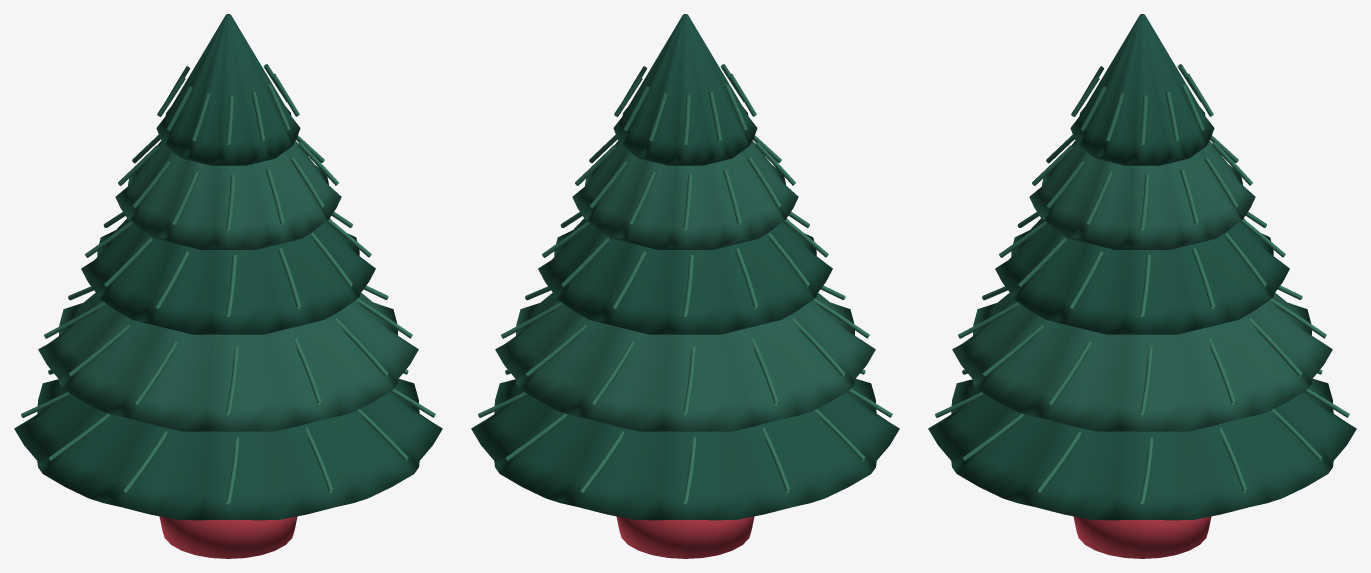
The model's file is tree.glb.
The picture shows the model from 3 angles, left to right: view 1: azimuth 30°, elevation 25°; view 2: azimuth 150°, elevation 25°; view 3: azimuth 270°, elevation 25°; orthographic projection.
Parts seen in each view (by area): view 1: Bough layer, Bough layer.001, Bough layer.002, Bough layer.003, Bough layer.004, Tree planter; view 2: Bough layer, Bough layer.001, Bough layer.002, Bough layer.003, Bough layer.004, Tree planter; view 3: Bough layer, Bough layer.001, Bough layer.002, Bough layer.003, Bough layer.004, Tree planter.
Boxes of the visible parts, x1,y1,x2,y2 form: Bough layer: (14,379,442,520); Bough layer.001: (38,292,418,431); Bough layer.002: (81,218,375,334); Bough layer.003: (115,140,341,249); Bough layer.004: (156,14,300,165); Tree planter: (159,516,297,558); Bough layer: (471,379,899,520); Bough layer.001: (495,292,875,431); Bough layer.002: (538,218,832,334); Bough layer.003: (572,140,798,249); Bough layer.004: (613,14,757,165); Tree planter: (616,516,754,558); Bough layer: (928,379,1356,520); Bough layer.001: (952,292,1332,431); Bough layer.002: (995,218,1289,334); Bough layer.003: (1029,140,1255,249); Bough layer.004: (1070,14,1214,165); Tree planter: (1073,516,1211,558).
Size of the model in its own units: 2.6 by 3.45 by 2.6.
